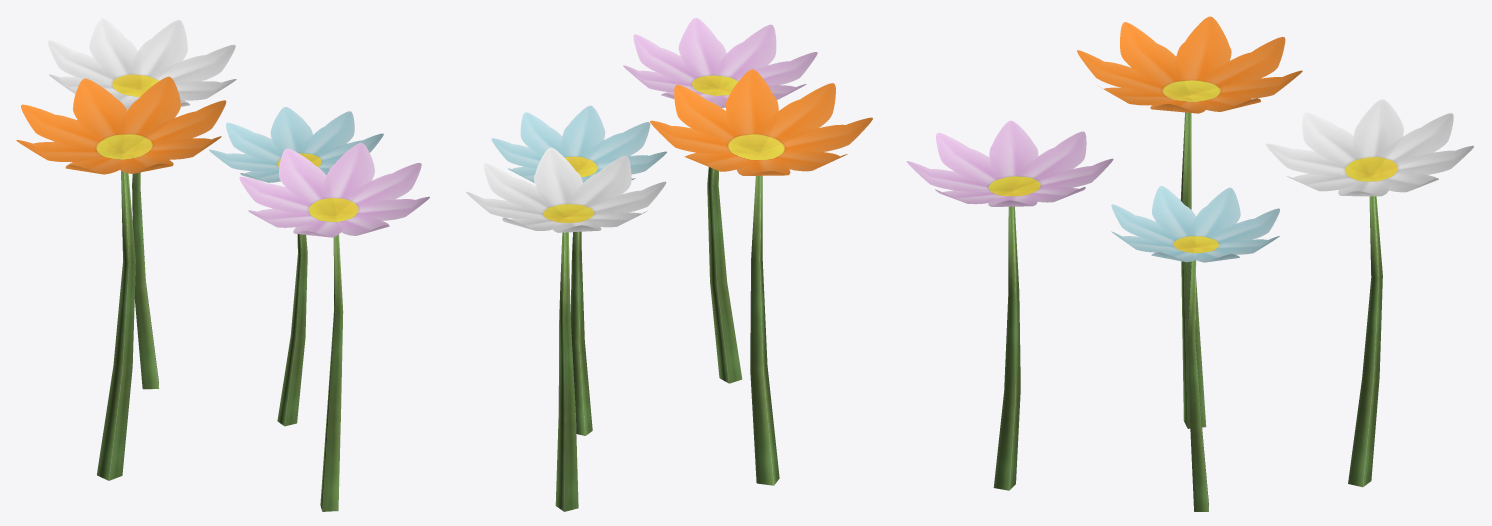
Rendered from flowers1.fbx.
3 views of the same model, side by side, from view 1: azimuth 30°, elevation 25°; view 2: azimuth 150°, elevation 25°; view 3: azimuth 270°, elevation 25° (orthographic). The views are drawn at different scales.
Visible parts, largest first — view 1: Plane.004, Plane.002, Plane.003, Plane.000; view 2: Plane.004, Plane.003, Plane.002, Plane.000; view 3: Plane.003, Plane.004, Plane.002, Plane.000.
Part boxes in pixels (x1=…): Plane.004: x1=16, y1=76, x2=226, y2=480; Plane.002: x1=239, y1=142, x2=429, y2=511; Plane.003: x1=47, y1=17, x2=236, y2=389; Plane.000: x1=209, y1=107, x2=383, y2=426; Plane.004: x1=650, y1=69, x2=872, y2=485; Plane.003: x1=466, y1=147, x2=666, y2=511; Plane.002: x1=623, y1=17, x2=817, y2=383; Plane.000: x1=491, y1=105, x2=666, y2=435; Plane.003: x1=1265, y1=99, x2=1473, y2=487; Plane.004: x1=1077, y1=16, x2=1302, y2=428; Plane.002: x1=906, y1=120, x2=1113, y2=490; Plane.000: x1=1111, y1=186, x2=1279, y2=511.
Size of the model in its own units: 46.95 by 46.62 by 64.53.
